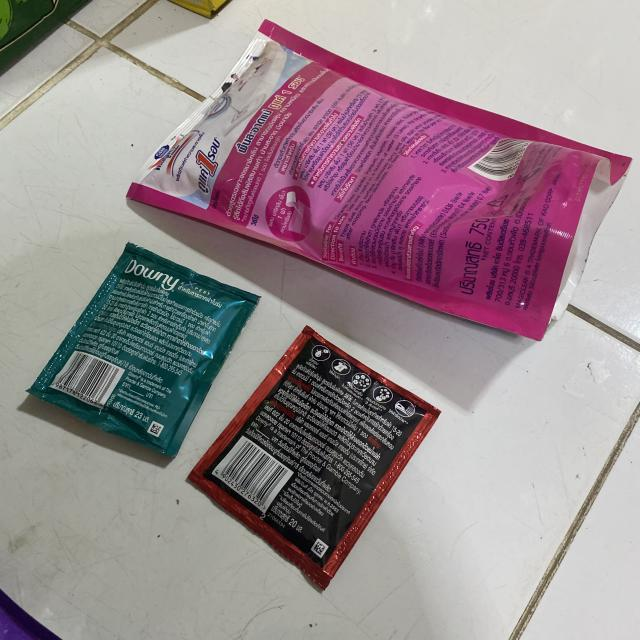plastik: (128, 22, 630, 339), (189, 326, 440, 589), (28, 242, 259, 456)
